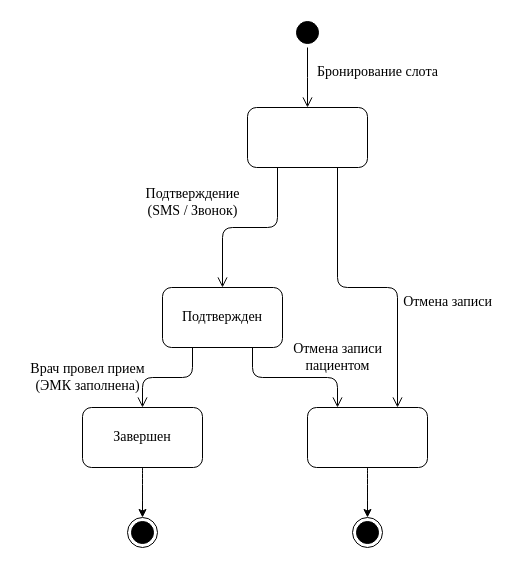
Some shapes in this 519 by 565 pixel diagram are drawn without their labels. Here are the shapes that lost their labels. From the top down, the box of each, then its label:
(246, 106, 368, 168): Создан
(306, 406, 428, 468): Отменен
